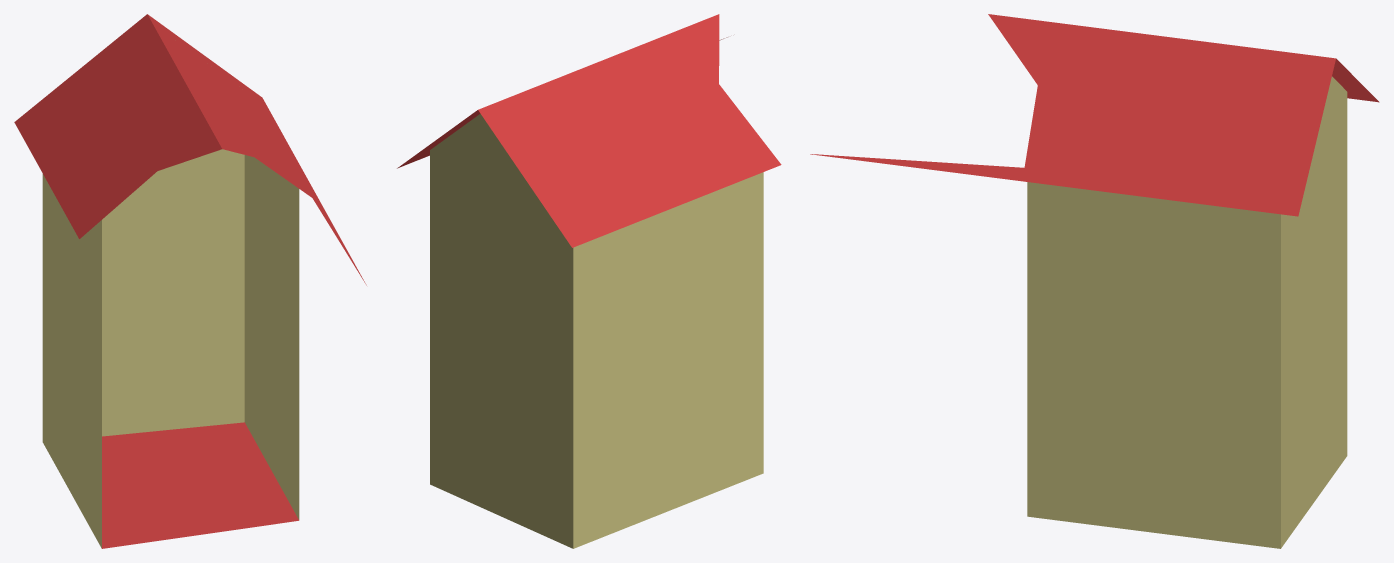
The picture shows the model from 3 angles, left to right: view 1: azimuth 30°, elevation 25°; view 2: azimuth 150°, elevation 25°; view 3: azimuth 270°, elevation 25°; orthographic projection. The views are drawn at different scales.
Bounding box in the file's own units: 6.88 × 10.86 × 9.49.
